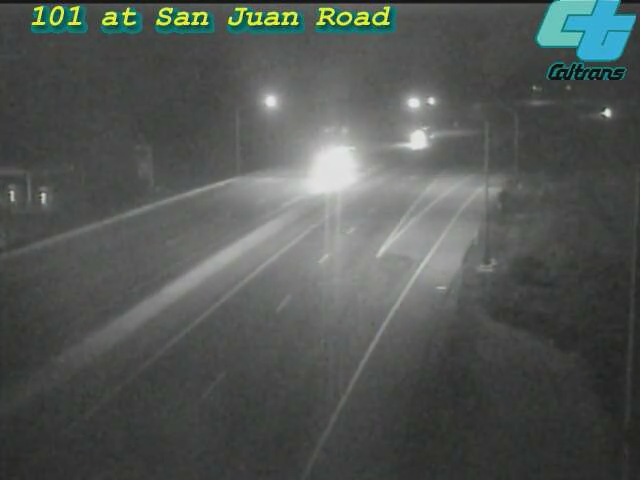vehicle: (296, 122, 376, 202), (394, 115, 444, 165), (583, 88, 633, 138)
